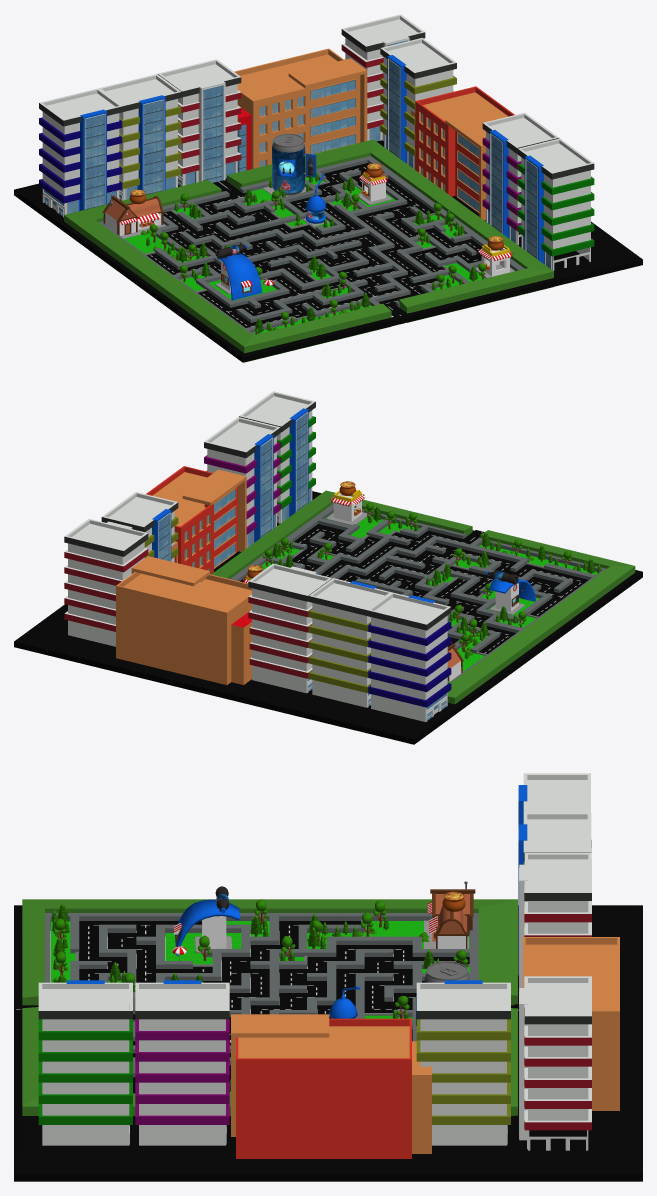
The model's file is Level 1 Final-transformed.glb.
The picture shows the model from 3 angles, top to bottom: view 1: azimuth 30°, elevation 25°; view 2: azimuth 150°, elevation 25°; view 3: azimuth 270°, elevation 25°; orthographic projection. The views are drawn at different scales.
Parts seen in each view (by area): view 1: Assets_COMBINED:pSphere1, Plane.010, Low poly building.001, Cube, Lowpoly building, Assets_COMBINED:model_1; view 2: Assets_COMBINED:pSphere1, Cube, Plane.010, Low poly building.001, Lowpoly building; view 3: Assets_COMBINED:pSphere1, Cube, Plane.010.
Boxes of the visible parts, x1=… form: Assets_COMBINED:pSphere1: x1=39, y1=14, x2=594, y2=362; Plane.010: x1=124, y1=163, x2=514, y2=334; Low poly building.001: x1=44, y1=40, x2=550, y2=268; Cube: x1=14, y1=140, x2=642, y2=362; Lowpoly building: x1=237, y1=80, x2=479, y2=211; Assets_COMBINED:model_1: x1=223, y1=146, x2=315, y2=282; Assets_COMBINED:pSphere1: x1=64, y1=391, x2=635, y2=721; Cube: x1=14, y1=491, x2=642, y2=744; Plane.010: x1=240, y1=513, x2=597, y2=671; Low poly building.001: x1=159, y1=413, x2=446, y2=720; Lowpoly building: x1=184, y1=489, x2=235, y2=570; Assets_COMBINED:pSphere1: x1=22, y1=773, x2=619, y2=1158; Cube: x1=14, y1=905, x2=642, y2=1181; Plane.010: x1=16, y1=919, x2=518, y2=1093.
Size of the model in its own units: 3.17 by 0.8197 by 3.14.
11 materials, 11 textured.
